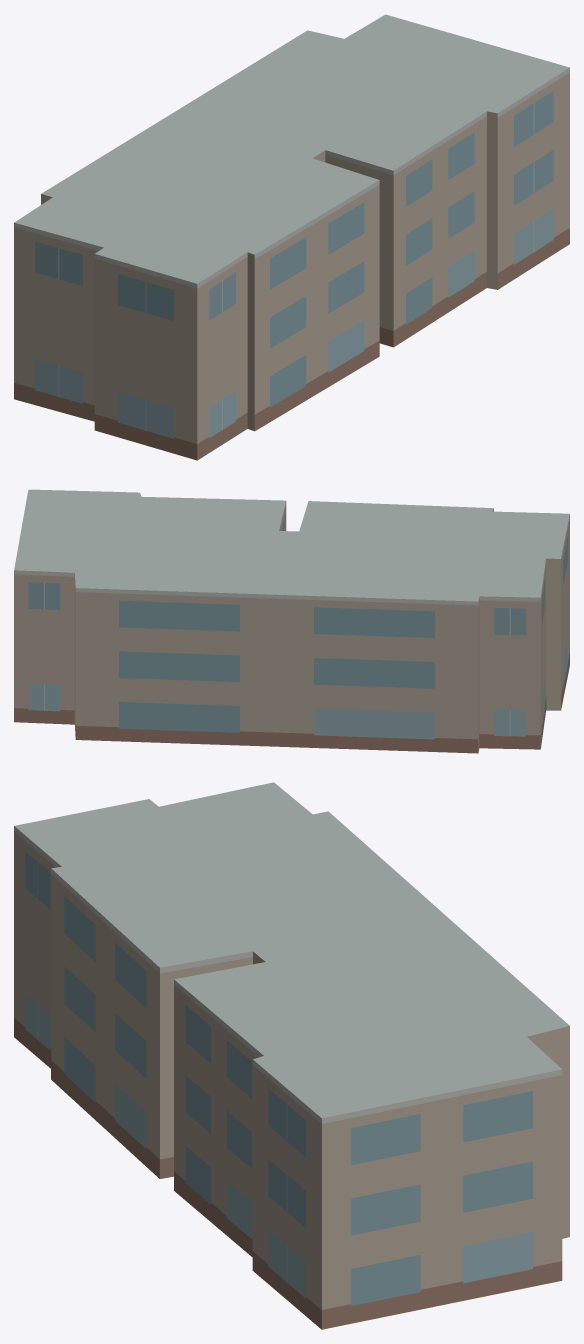
File: survey-upis-32473763.glb
The picture shows the model from 3 angles, top to bottom: view 1: azimuth 30°, elevation 25°; view 2: azimuth 150°, elevation 25°; view 3: azimuth 270°, elevation 25°; orthographic projection. The views are drawn at different scales.
Visible parts, largest first — view 1: survey-upis-32473763.tmp; view 2: survey-upis-32473763.tmp; view 3: survey-upis-32473763.tmp.
Part boxes in pixels (box(x1,y1,x2,y2)): survey-upis-32473763.tmp: box(14, 14, 569, 460); survey-upis-32473763.tmp: box(14, 489, 569, 753); survey-upis-32473763.tmp: box(14, 782, 569, 1329).
Size of the model in its own units: 31.23 by 9.15 by 21.82.
